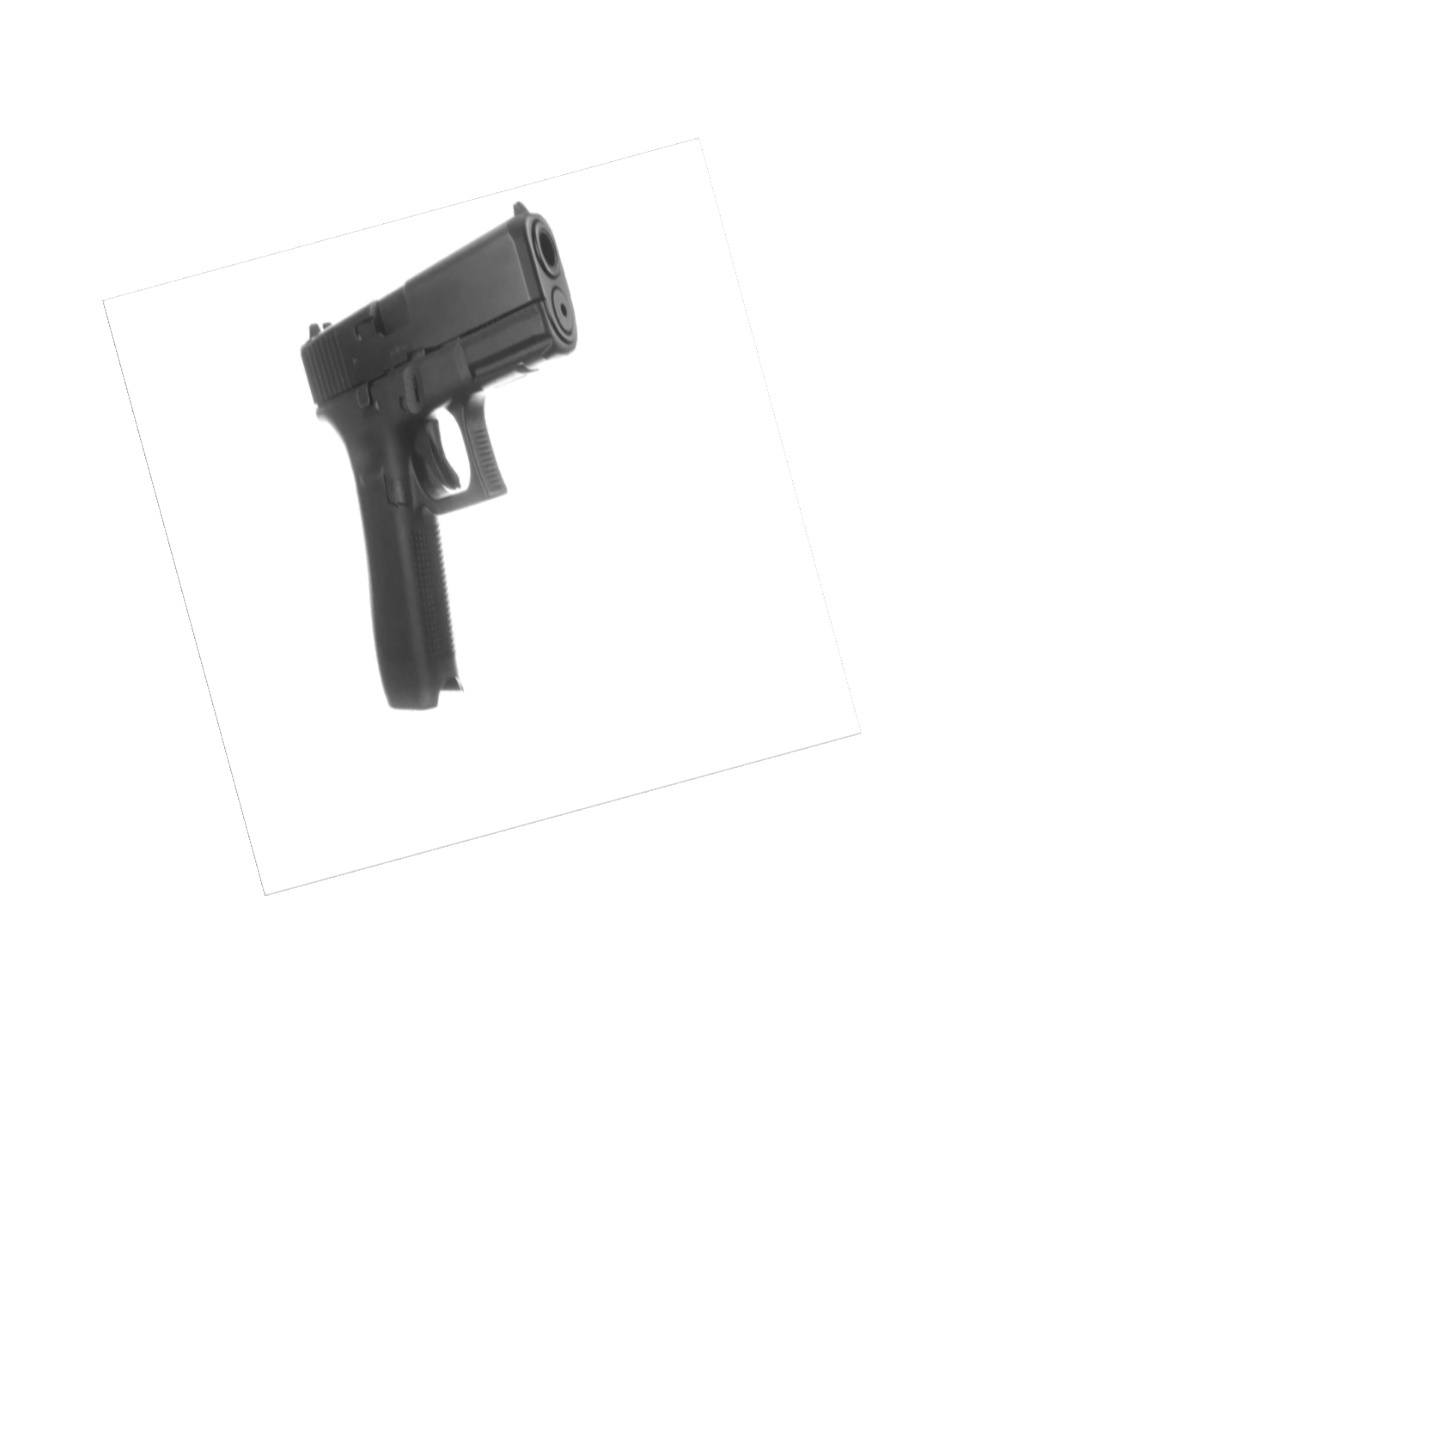gun: (290, 195, 586, 716)
